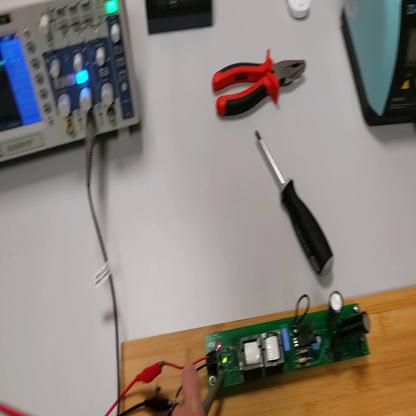hand: (171, 363, 204, 414)
high voltage board: (163, 291, 373, 403)
oscilloscope: (2, 2, 145, 169)
oscilloscope probe tip: (199, 372, 224, 416)
pliers: (210, 54, 310, 122)
screwdriver-: (256, 130, 336, 278)
welder station: (339, 2, 416, 133)
working area: (120, 284, 416, 415)
